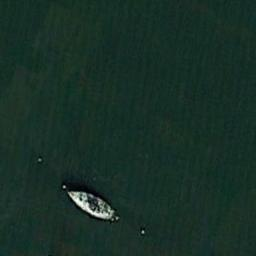boat: (64, 189, 117, 221)
